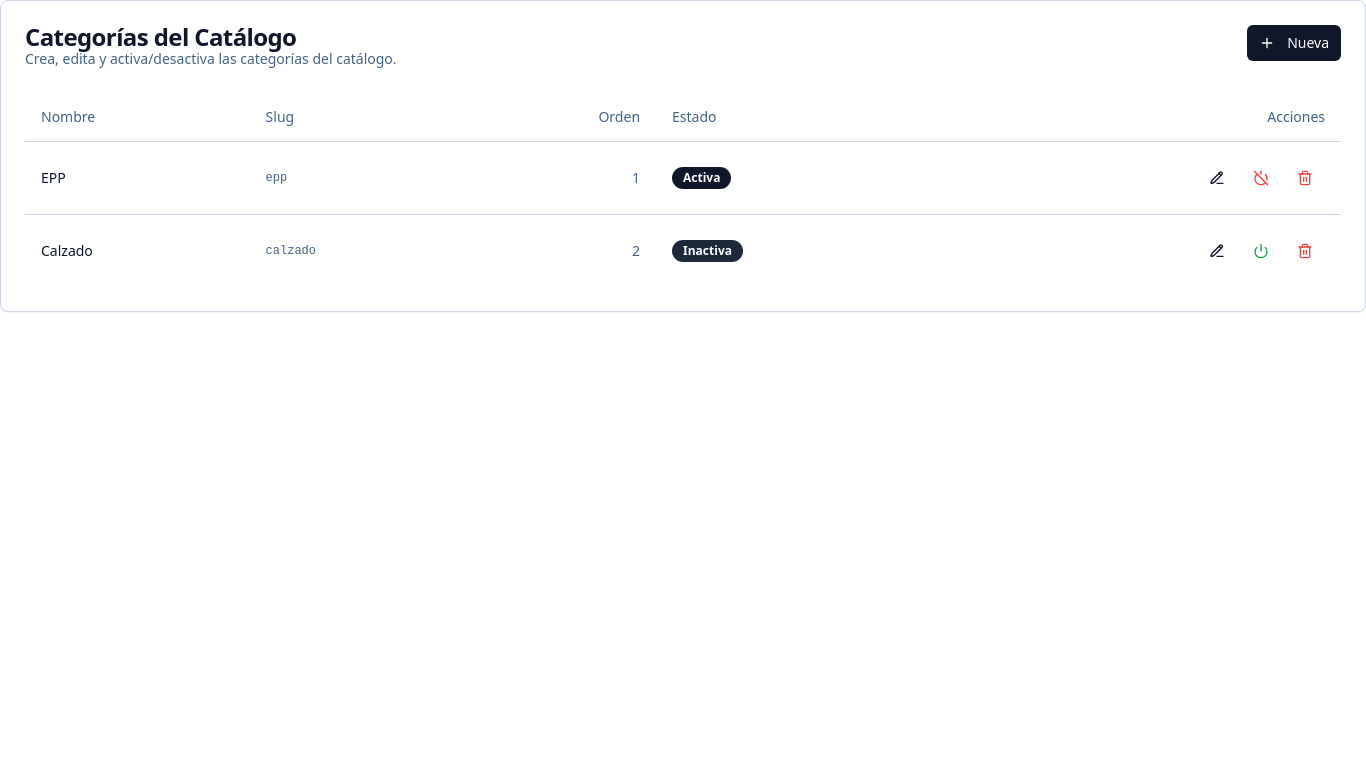
CategoryManager — persistence (HU-2.3) › opens delete confirmation dialog when Eliminar button is clicked
Check: the text "EPP" is shown, box [25,141,250,214]
Step 1. Click the button named "eliminar epp" → (1305,178), box [1285,158,1325,198]
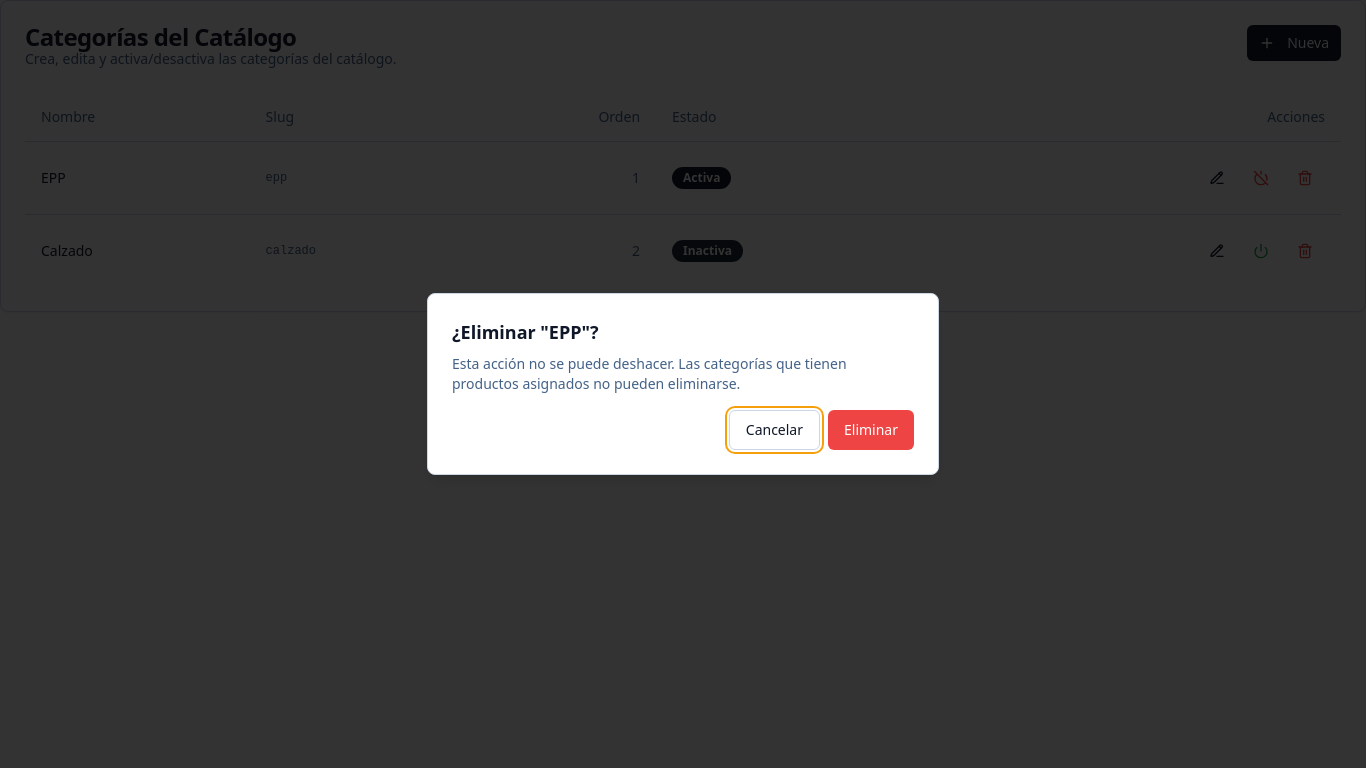
Check: the dialog is shown, box [427,293,939,475]
Check: the heading "¿Eliminar \"EPP\"?" is shown, box [452,320,599,344]
